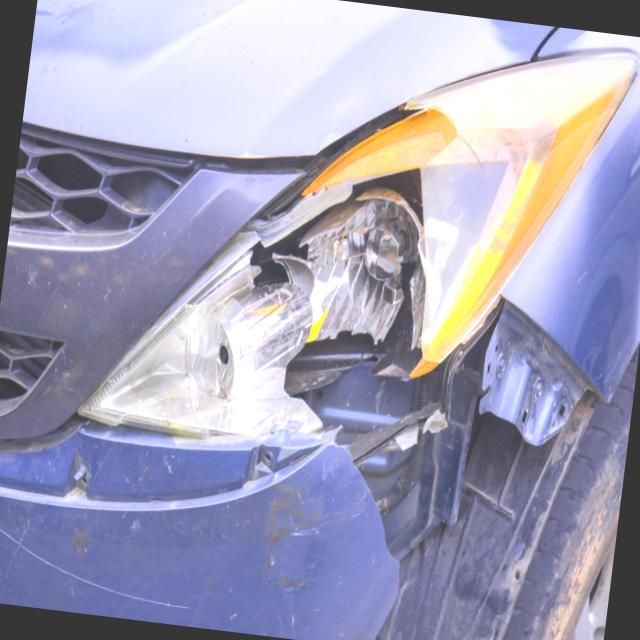Dechirure: (296, 257, 619, 588)
Phare abime: (171, 61, 465, 459)
Rayure: (0, 423, 352, 640)
